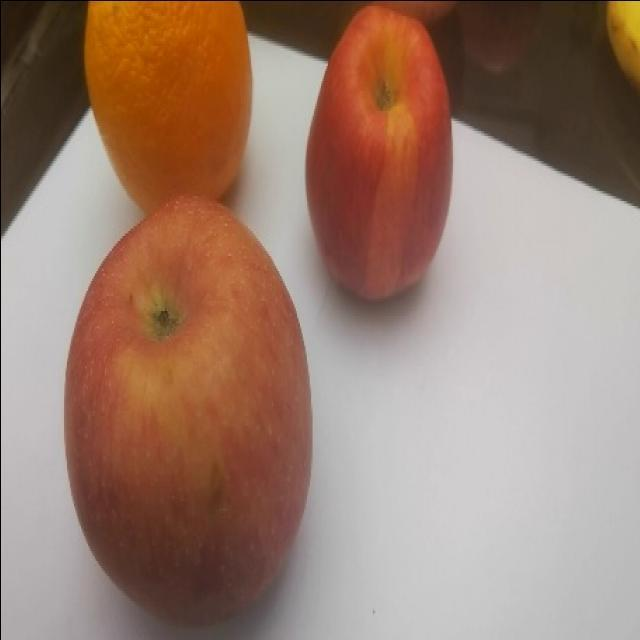Apple: (62, 194, 313, 626), (304, 4, 454, 302)
Banana: (605, 0, 639, 87)
Orange: (82, 0, 253, 215)
